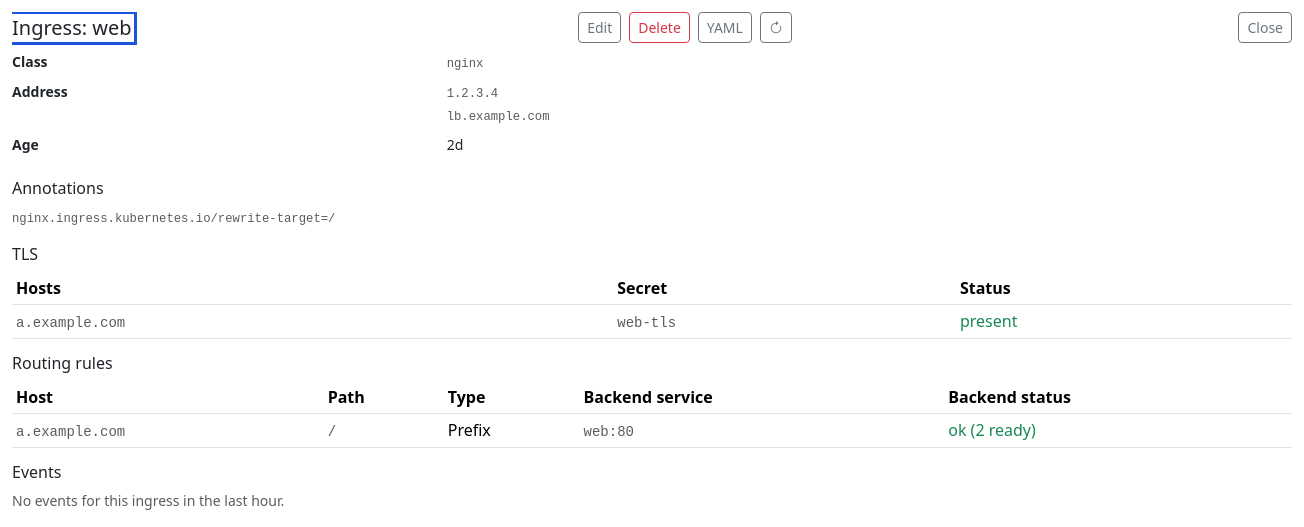
Test case: IngressDetail - actions › shows an error and keeps the panel open when deletion fails
Click the button "Delete" at (660, 28), box [629, 12, 690, 43]
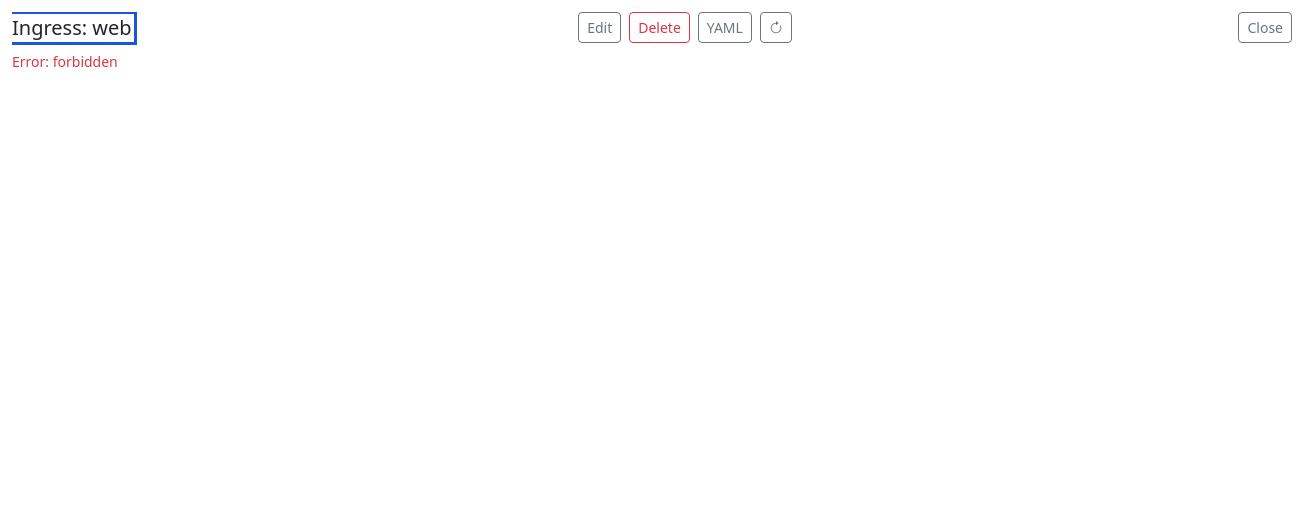
expect the text "forbidden" is shown: met, box [12, 52, 118, 71]
